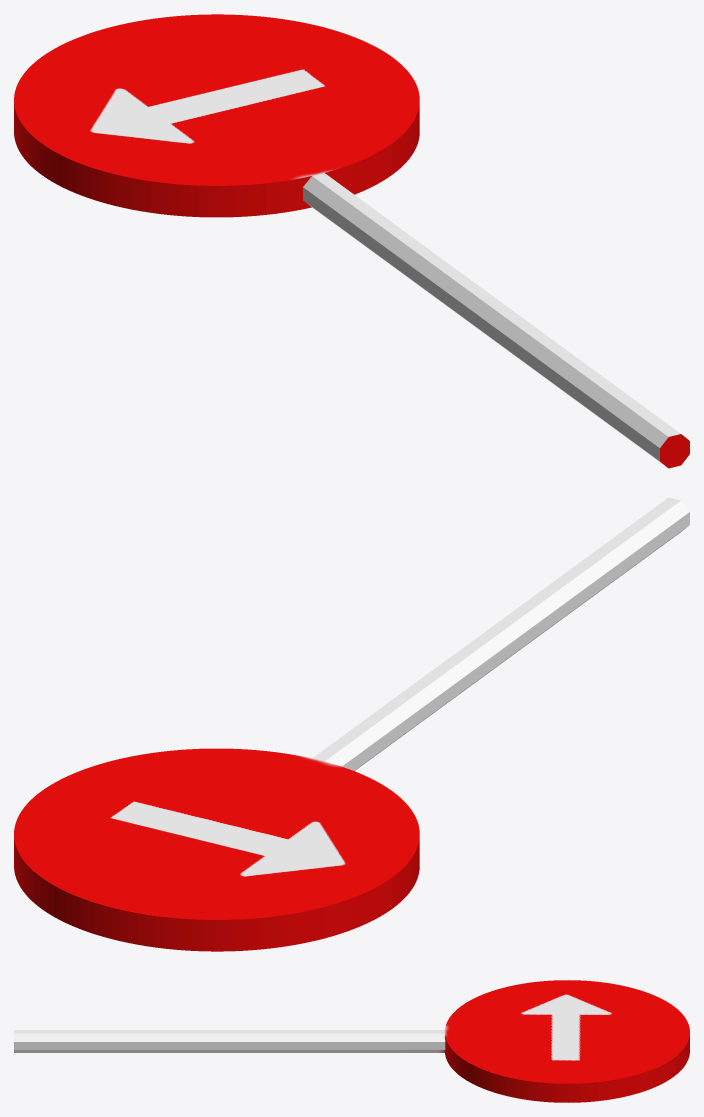
The picture shows the model from 3 angles, top to bottom: view 1: azimuth 30°, elevation 25°; view 2: azimuth 150°, elevation 25°; view 3: azimuth 270°, elevation 25°; orthographic projection. The views are drawn at different scales.
Parts seen in each view (by area): view 1: Sign; view 2: Sign; view 3: Sign.
Boxes of the visible parts, x1,y1,x2,y2 form: Sign: (14,14,689,468); Sign: (14,497,689,951); Sign: (14,980,689,1102).
Size of the model in its own units: 35 by 96.49 by 3.
